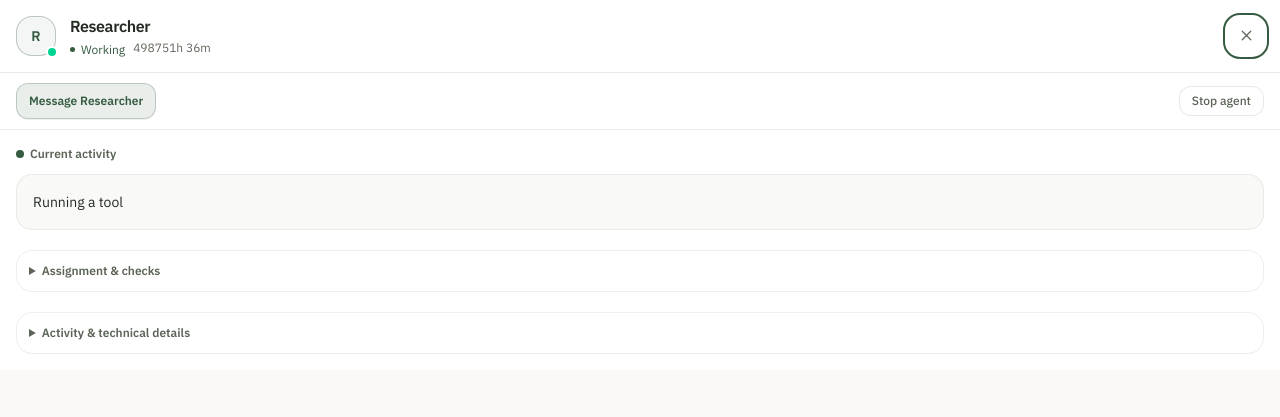
Test: worker details › keeps stop available after a failed request
Click the button "Stop agent". click: x=1221, y=100
box: [1179, 86, 1264, 116]
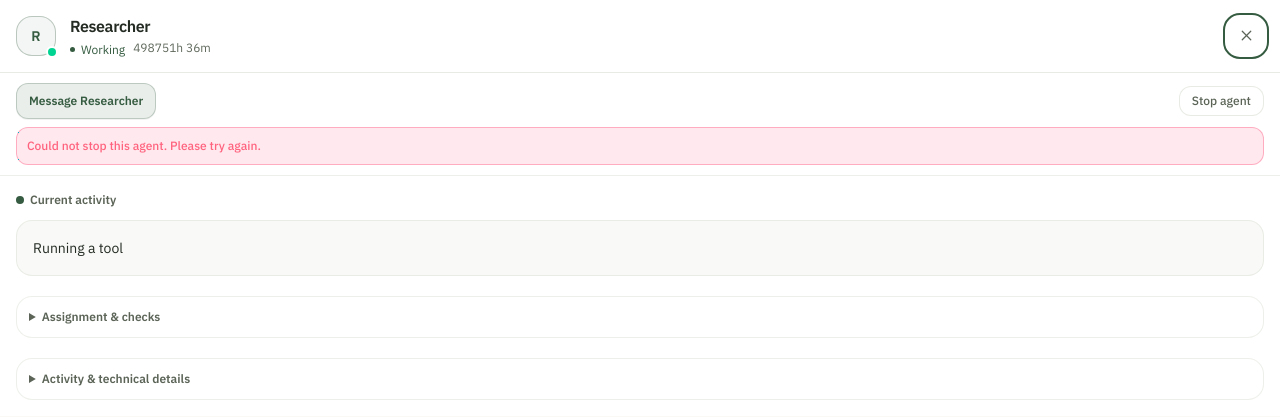
Check: the message shows "Could not stop this agent", box [27, 138, 261, 152]
